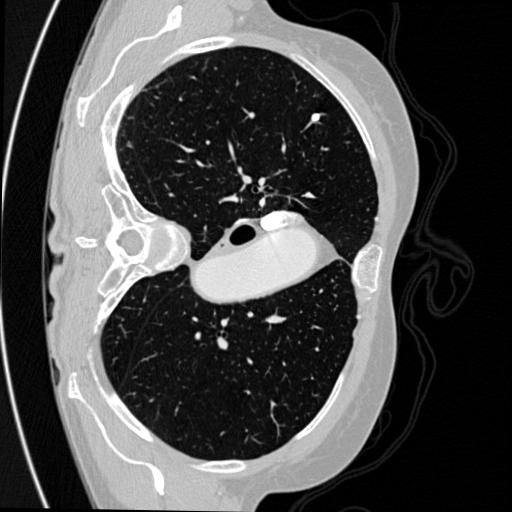nodule: (311, 111, 324, 124)
